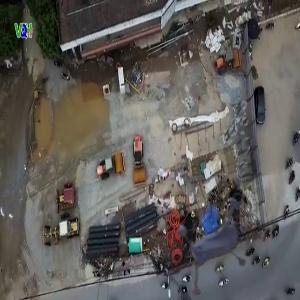drone: (158, 173, 274, 289)
